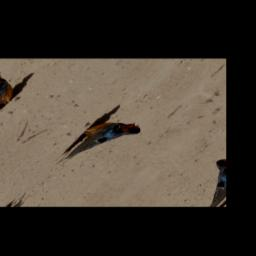Swallow: (53, 112, 147, 178)
